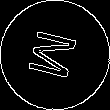M_E: (25, 27, 85, 83)
